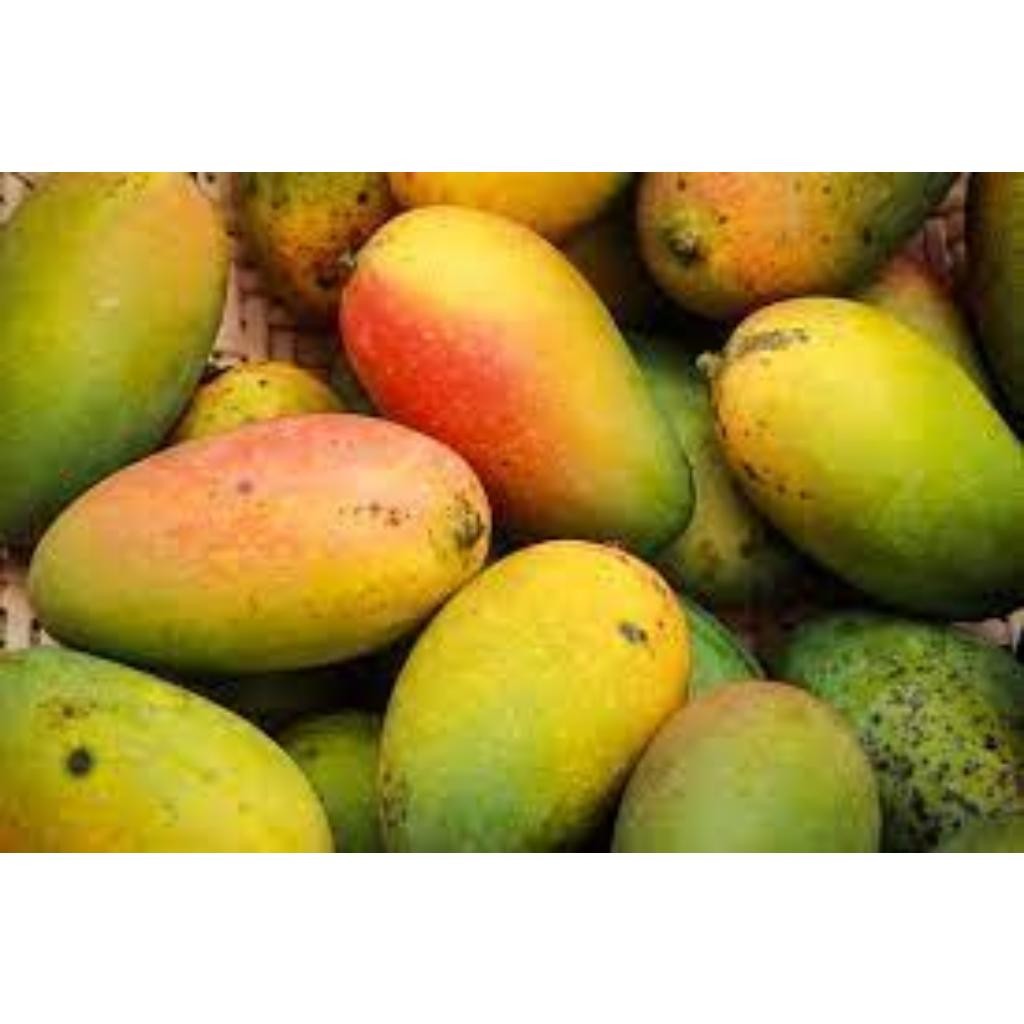mango: (341, 207, 704, 553), (30, 413, 495, 677), (696, 281, 1020, 620), (374, 540, 692, 852), (0, 171, 239, 535), (0, 647, 339, 852), (637, 173, 963, 325), (610, 691, 894, 852)
